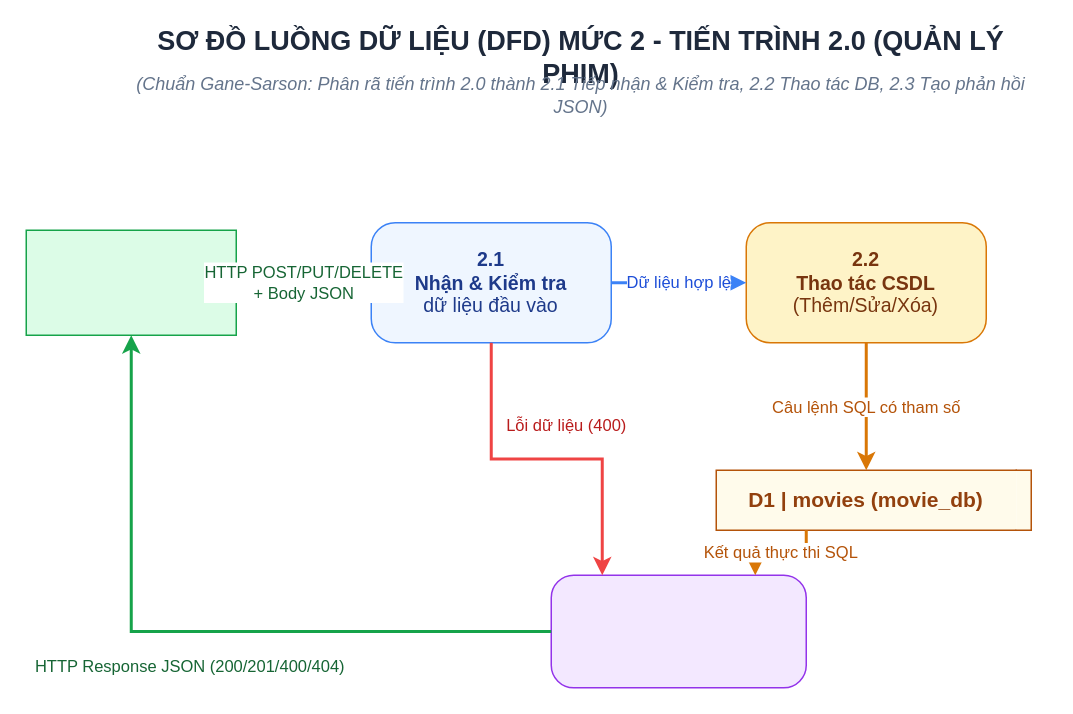
Image size: 1073x714. Some labels were removed from this diagram. Here are the shapes that lost their labels. From the top down, the centre of each, then its label:
At pixel 130 282: "Quản trị viên (Admin Dashboard)".
At pixel 678 631: "2.3 Tạo phản hồi JSON (Status & Data)".
